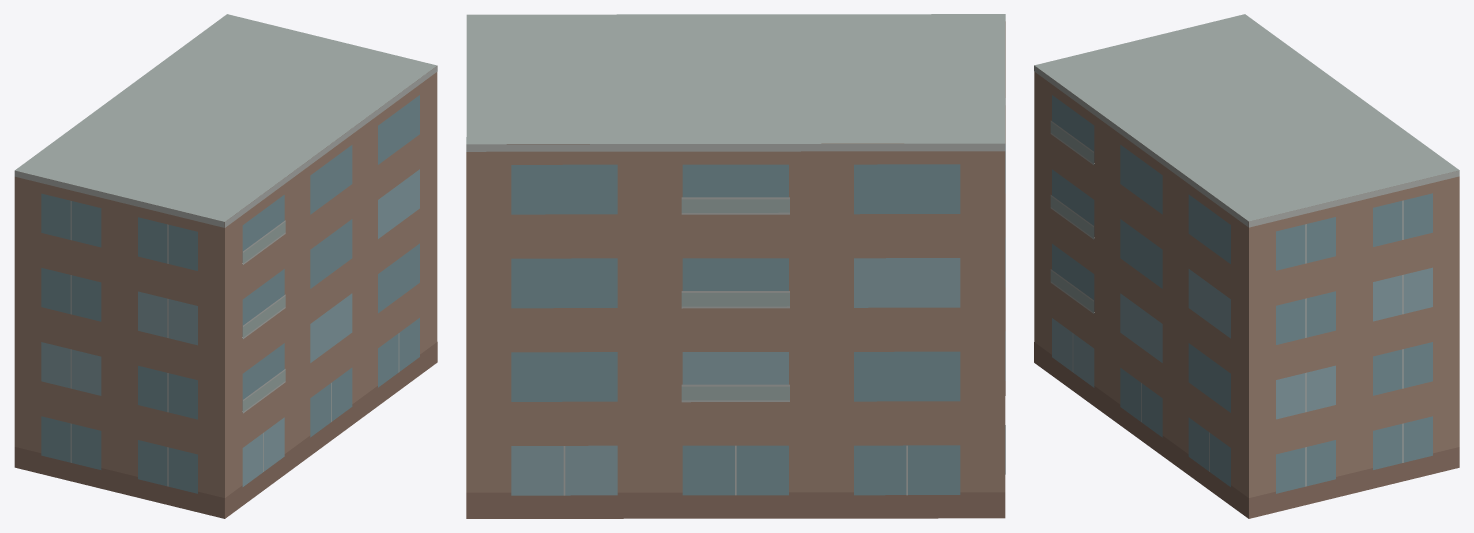
File: survey-upis-32998667.glb
The picture shows the model from 3 angles, left to right: view 1: azimuth 30°, elevation 25°; view 2: azimuth 150°, elevation 25°; view 3: azimuth 270°, elevation 25°; orthographic projection. The views are drawn at different scales.
Visible parts, largest first — view 1: survey-upis-32998667.tmp; view 2: survey-upis-32998667.tmp; view 3: survey-upis-32998667.tmp.
Boxes of the visible parts, x1,y1,x2,y2 form: survey-upis-32998667.tmp: [14, 14, 437, 518]; survey-upis-32998667.tmp: [466, 14, 1005, 518]; survey-upis-32998667.tmp: [1034, 14, 1459, 518].
Bounding box in the file's own units: 17.82 × 11.9 × 15.44.
